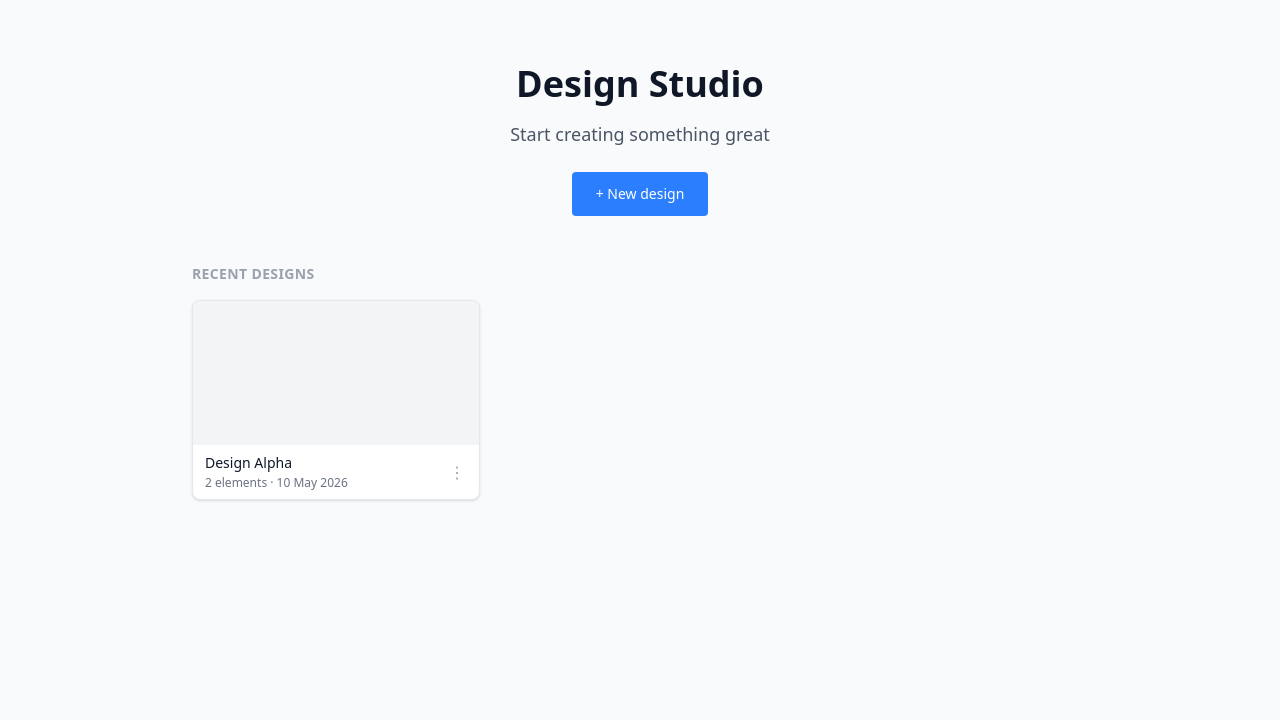
Test: AC3 — clicking Delete opens confirmation dialog › opens the confirmation dialog when Delete is clicked in the dropdown
Expected: the text "Design Alpha" is shown, [205, 453, 292, 472]
Click the button named "project options": (457, 472) [447, 453, 467, 491]
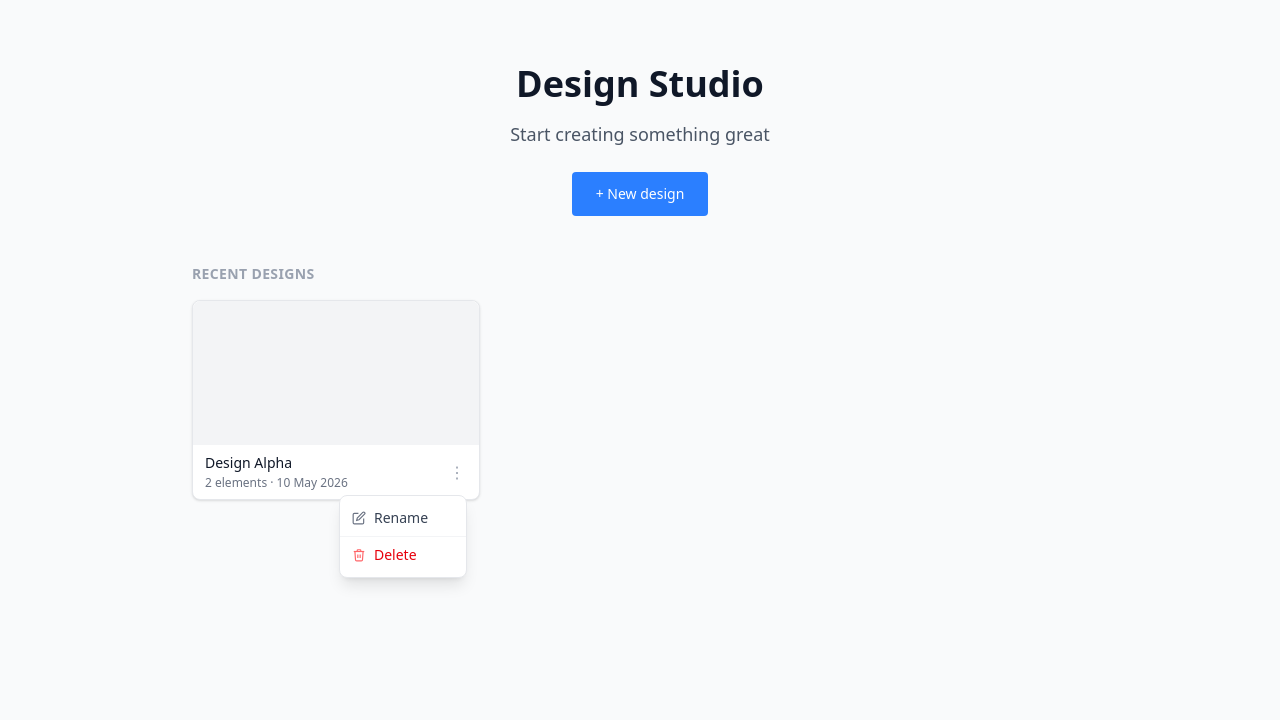
Click the button "Delete": (403, 555) [340, 537, 466, 573]
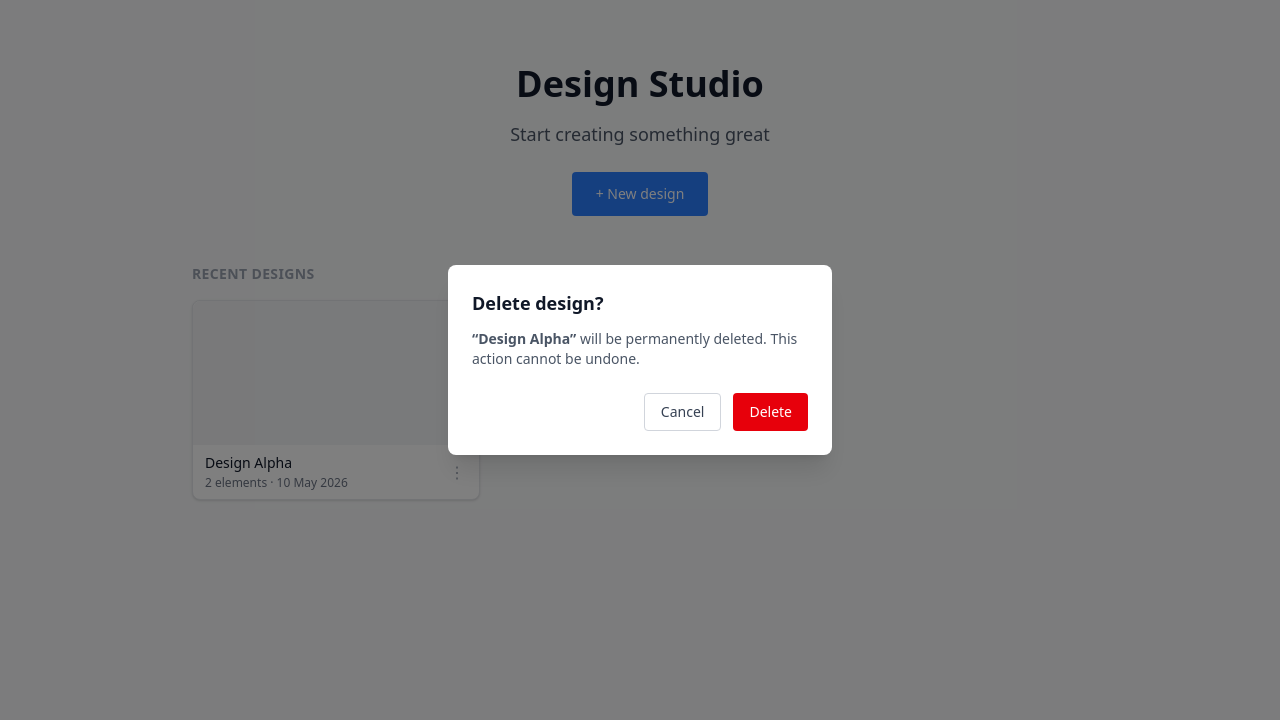
Expected: the dialog "Delete design?" is shown
